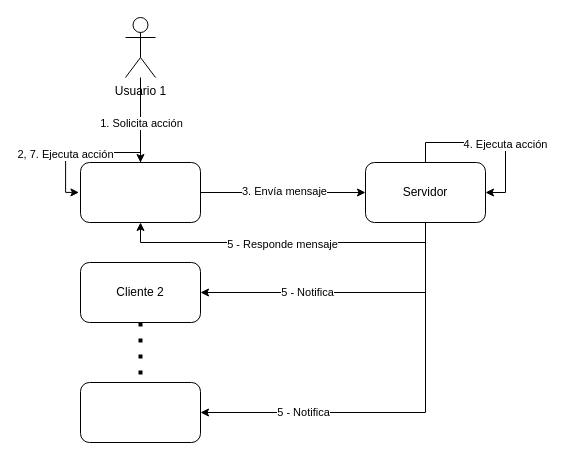
Some shapes in this 564 by 460 pixel diagram are drawn without their labels. Each missing label, with the centre of its shape:
Cliente 1: the point at 140,192
Cliente n: the point at 140,412
